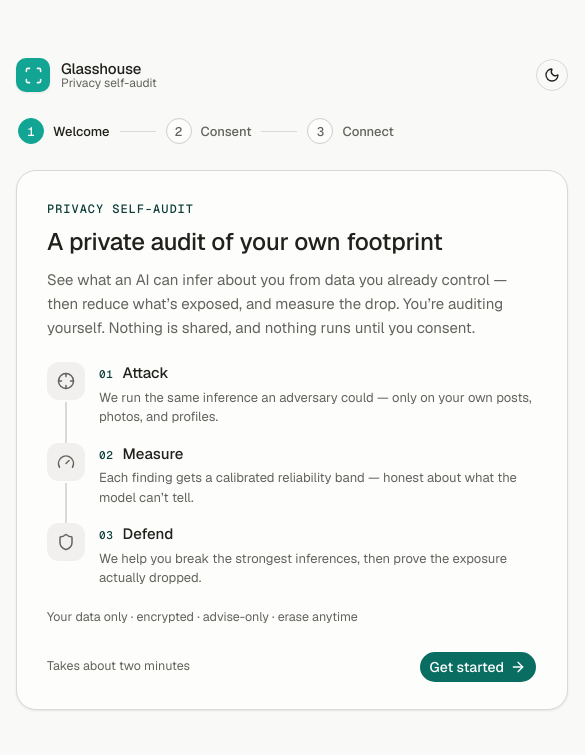
Test: OnboardingWizard › gates continue on the two REQUIRED points — Art. 9 stays optional
The width and height of the screenshot is (585, 755).
Click the button "Get started" at (478, 667), box [419, 651, 537, 683]
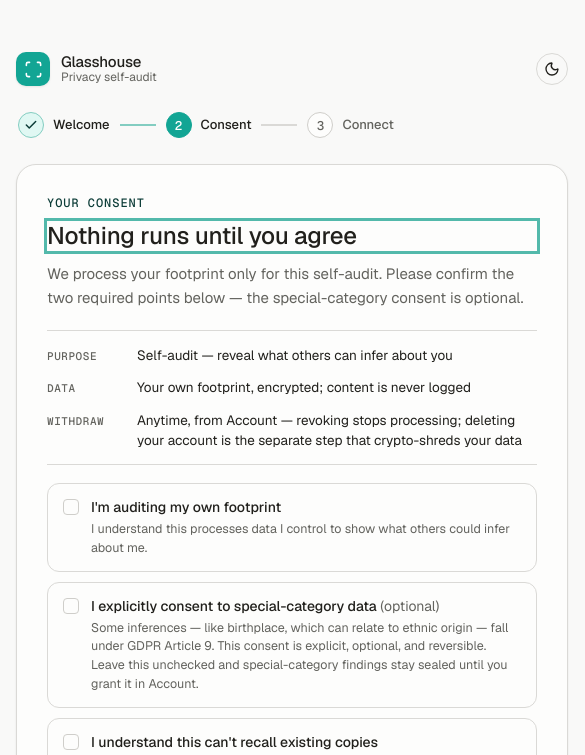
Click the checkbox named "auditing my own footprint" next to "I'm auditing my own footprint" at (71, 507), box [63, 499, 79, 515]
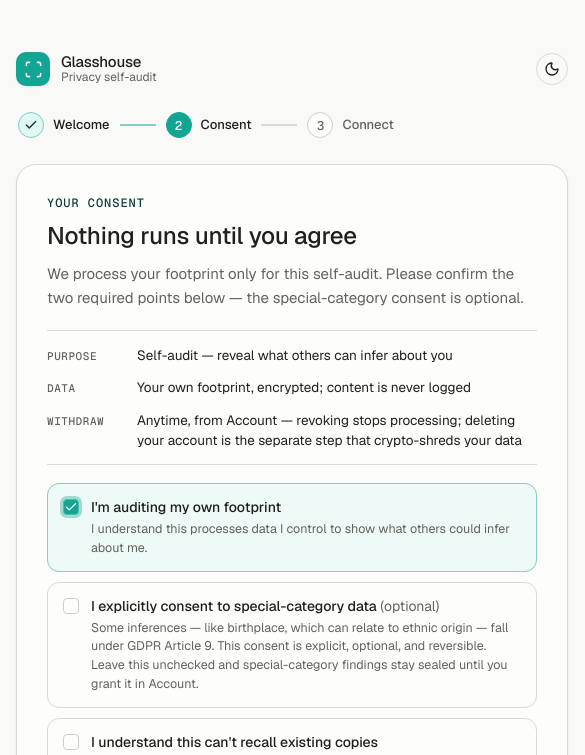
Click the 3rd checkbox named "can't recall existing copies" at (71, 742), box [63, 734, 79, 750]
(page scrolled)
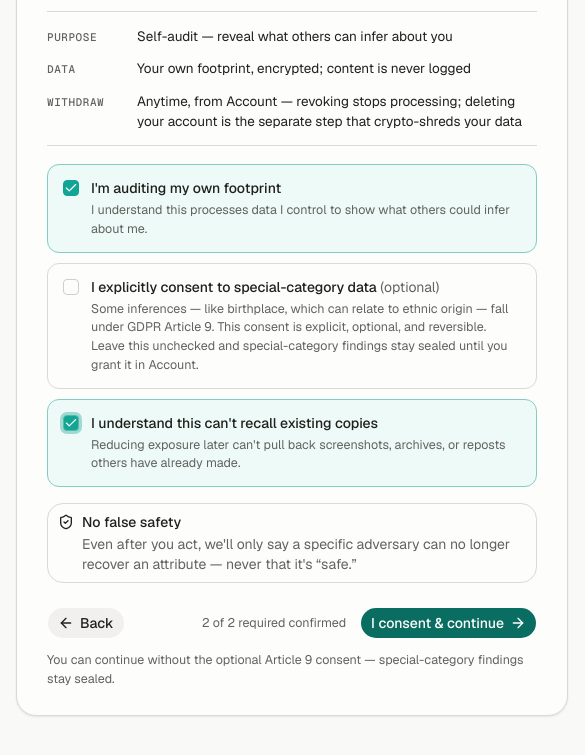
Expected: the button "I consent & continue" is enabled, [360, 607, 537, 639]
Expected: the text "continue without the optional Article 9 consent" is shown, [47, 651, 524, 687]
